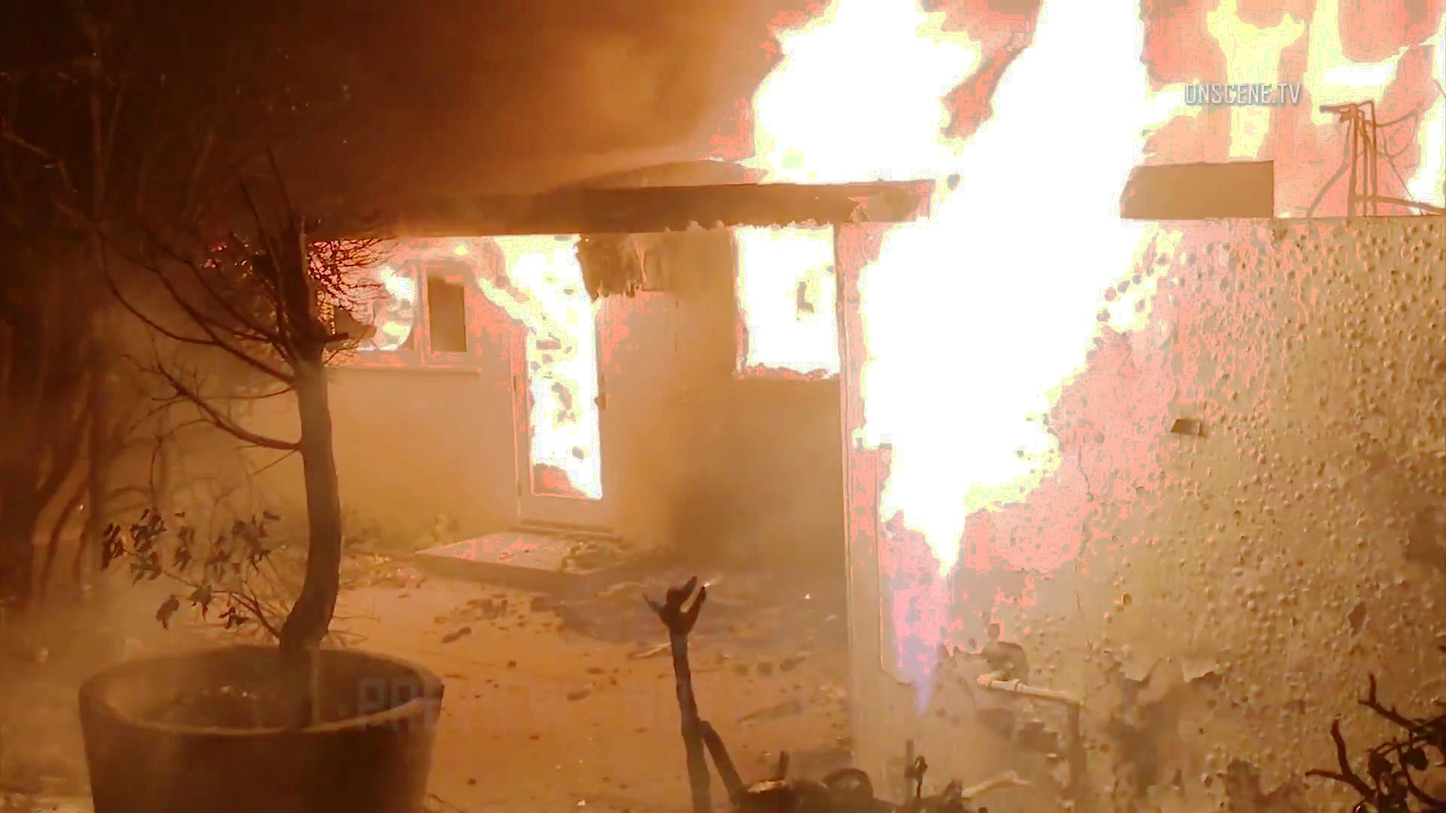fire: (518, 273, 608, 476), (337, 243, 423, 377)
